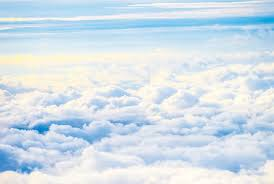sky: (1, 2, 274, 183)
